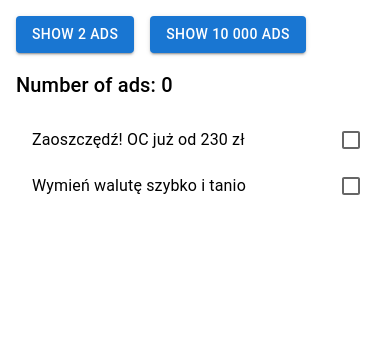
renders extra info when clicked on list item
Click the button "Zaoszczędź! OC już od 230 zł" at [138, 139], box [32,130,245,148]
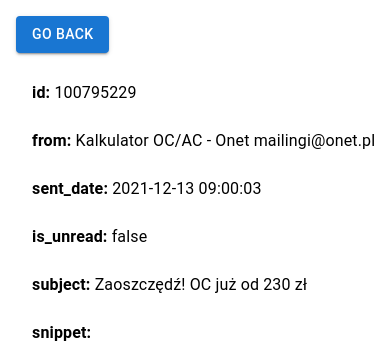
Result: the text "id: 100795229" is shown at [32,82,137,102]
